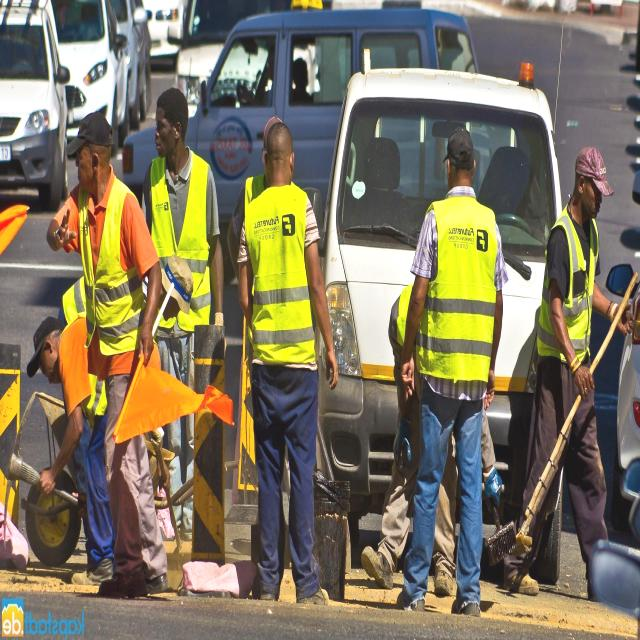no-helmet: (573, 142, 615, 208), (72, 104, 114, 164), (440, 114, 480, 168), (151, 86, 193, 134), (262, 116, 296, 173)
vest: (423, 198, 498, 378), (248, 188, 308, 370), (80, 189, 136, 363), (154, 160, 208, 333), (537, 223, 597, 361)
